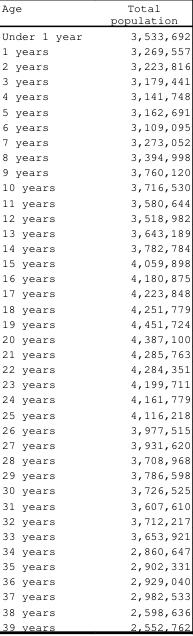table: (0, 0, 189, 633)
table column: (0, 0, 95, 633), (95, 0, 189, 633)
table column header: (0, 0, 189, 27)
table row: (0, 0, 189, 27), (0, 42, 189, 58), (0, 133, 189, 149), (0, 239, 189, 255), (0, 330, 189, 346), (0, 436, 189, 452), (0, 542, 189, 558), (0, 27, 189, 42), (0, 58, 189, 73), (0, 73, 189, 88), (0, 88, 189, 103), (0, 103, 189, 118), (0, 118, 189, 133), (0, 149, 189, 164), (0, 164, 189, 179), (0, 179, 189, 194), (0, 194, 189, 209), (0, 209, 189, 224), (0, 224, 189, 239), (0, 255, 189, 270), (0, 270, 189, 285), (0, 285, 189, 300), (0, 300, 189, 315), (0, 315, 189, 330), (0, 346, 189, 361), (0, 361, 189, 376), (0, 376, 189, 391), (0, 391, 189, 406), (0, 406, 189, 421), (0, 421, 189, 436), (0, 452, 189, 467), (0, 467, 189, 482), (0, 482, 189, 497), (0, 497, 189, 512), (0, 512, 189, 527), (0, 527, 189, 542), (0, 558, 189, 573), (0, 573, 189, 588), (0, 588, 189, 603), (0, 603, 189, 618), (0, 618, 189, 633)
